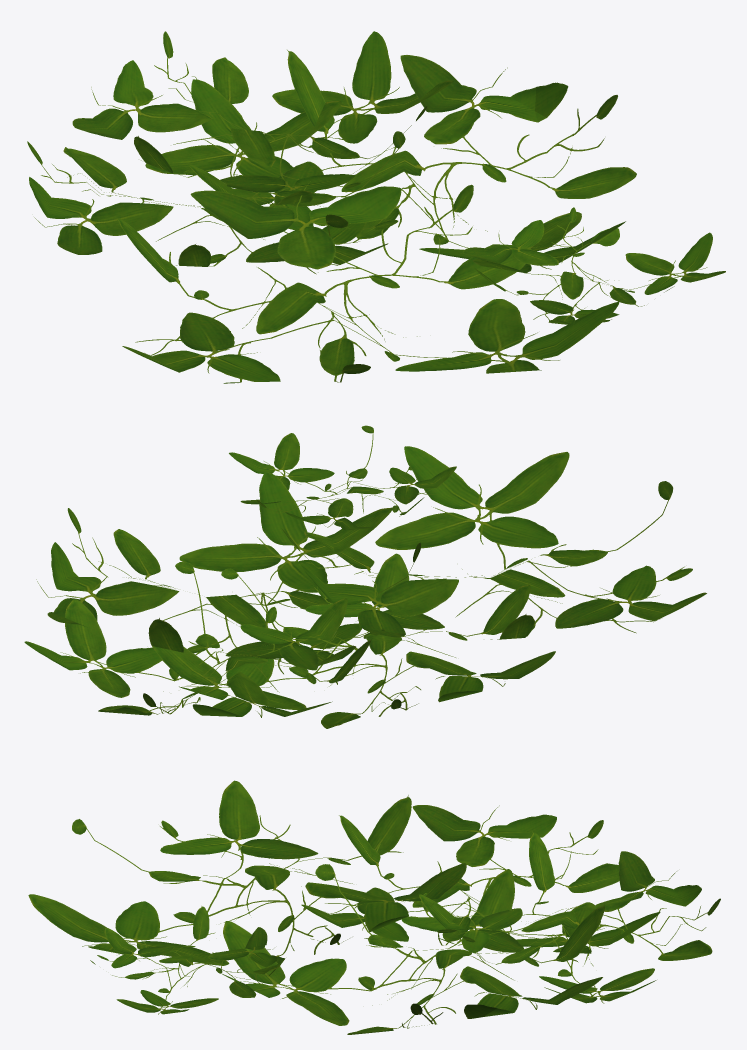
The model's file is leafplant5_lod1.fbx.
3 renders of one model, top to bottom at view 1: azimuth 30°, elevation 25°; view 2: azimuth 150°, elevation 25°; view 3: azimuth 270°, elevation 25°, orthographic. The views are drawn at different scales.
Parts seen in each view (by area): view 1: Mesh Object; view 2: Mesh Object; view 3: Mesh Object.
Boxes of the visible parts, <box> form: Mesh Object: <box>27,31,725,383</box>; Mesh Object: <box>24,425,706,728</box>; Mesh Object: <box>28,780,720,1034</box>.
Size of the model in its own units: 1.74 by 0.2972 by 2.04.
